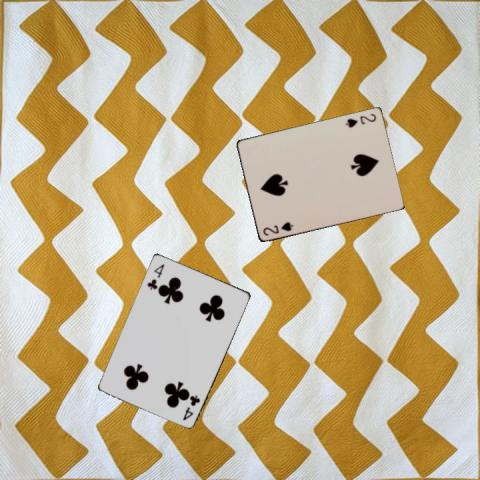2s: (343, 111, 377, 129), (260, 220, 295, 237)
4c: (144, 261, 166, 291), (180, 392, 201, 422)
